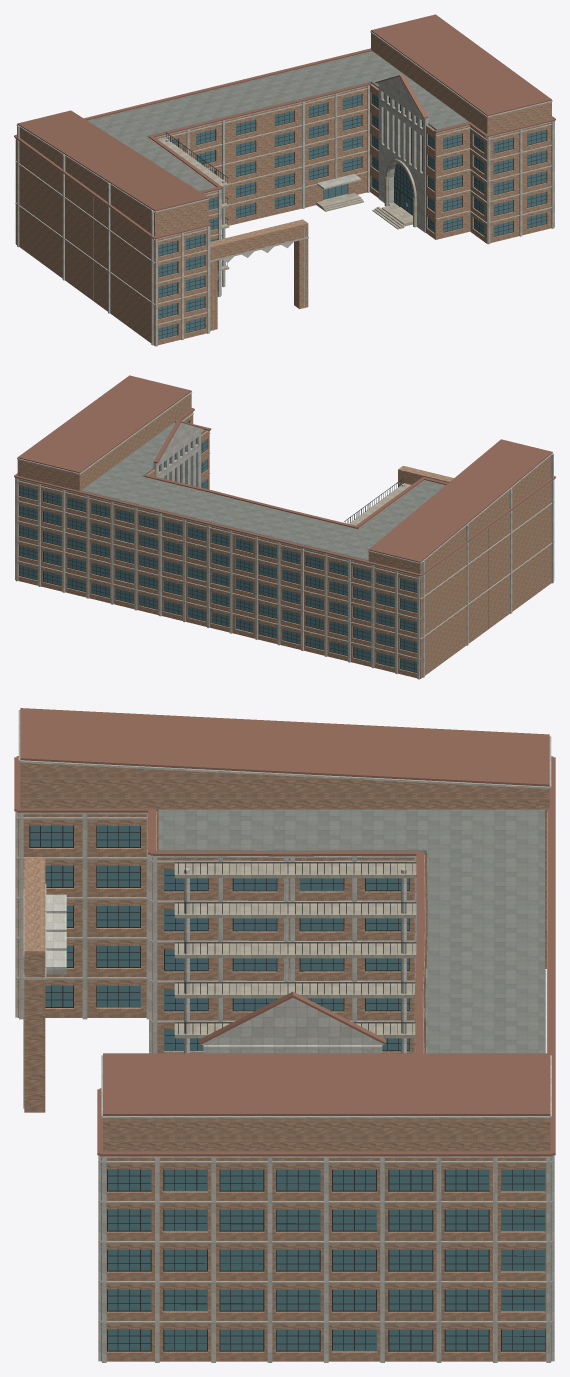
3 renders of one model, top to bottom at view 1: azimuth 30°, elevation 25°; view 2: azimuth 150°, elevation 25°; view 3: azimuth 270°, elevation 25°, orthographic. The views are drawn at different scales.
Visible parts, largest first — view 1: art__brick, art__roofRed, art__trim, art__glass, art__roof, art__frame, art__stone, art__archglass; view 2: art__brick, art__roofRed, art__glass, art__trim, art__roof, art__frame, art__stone; view 3: art__brick, art__roofRed, art__glass, art__trim, art__roof, art__frame, art__stone.
Part boxes in pixels (box(x1,y1,x2,y2)): art__brick: box(16, 33, 551, 345); art__roofRed: box(14, 14, 555, 239); art__trim: box(15, 31, 554, 346); art__glass: box(148, 83, 546, 339); art__roof: box(87, 51, 468, 191); art__frame: box(158, 93, 546, 339); art__stone: box(159, 138, 470, 270); art__archglass: box(383, 93, 422, 214); art__brick: box(17, 393, 551, 678); art__roofRed: box(14, 375, 555, 576); art__glass: box(19, 420, 417, 672); art__trim: box(15, 391, 554, 679); art__roof: box(81, 422, 445, 560); art__frame: box(19, 420, 416, 672); art__stone: box(349, 483, 410, 525); art__brick: box(18, 762, 551, 1361); art__roofRed: box(14, 708, 555, 1156); art__glass: box(30, 825, 545, 1351); art__trim: box(15, 710, 554, 1362); art__roof: box(158, 809, 544, 1053); art__frame: box(29, 825, 545, 1351); art__stone: box(174, 862, 546, 1053).
Bounding box in the file's own units: 76.84 × 24.64 × 44.17.
Materials: 9 (4 with a texture image).
